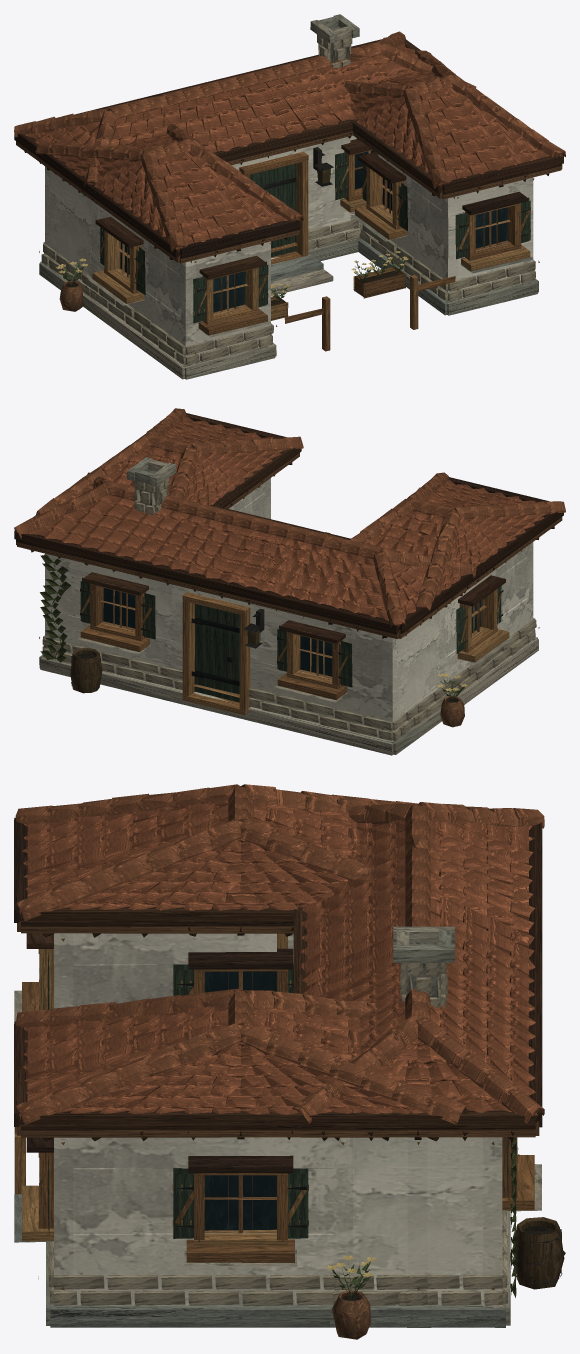
File: 08_farmer_east.glb
3 renders of one model, top to bottom at view 1: azimuth 30°, elevation 25°; view 2: azimuth 150°, elevation 25°; view 3: azimuth 270°, elevation 25°, orthographic. The views are drawn at different scales.
Parts seen in each view (by area): view 1: 08_farmer_east; view 2: 08_farmer_east; view 3: 08_farmer_east.
Part boxes in pixels (bbox=[...]): 08_farmer_east: bbox=[14, 14, 565, 379]; 08_farmer_east: bbox=[14, 408, 565, 755]; 08_farmer_east: bbox=[14, 784, 565, 1339].
Bounding box in the file's own units: 6.22 × 2.95 × 4.58.
8 materials, 8 textured.
